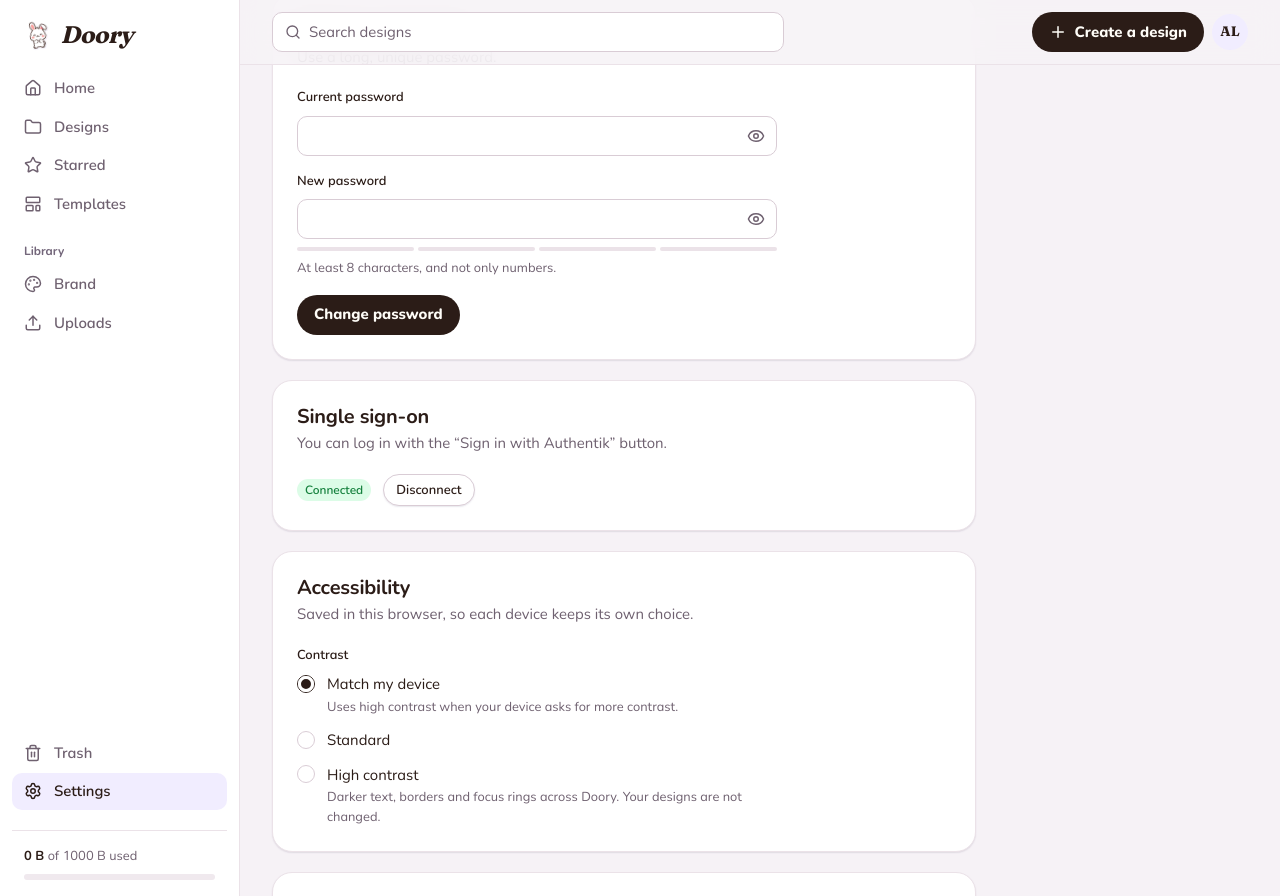
Scenario: settings: single sign-on › disconnects a connected account
(page scrolled)
Expected: the element "Single sign-on" shows "Connected", left=305, top=482, right=363, bottom=498
Expected: the element "Single sign-on" shows "You can log in with the “Sign in with Authentik” button.", left=297, top=433, right=667, bottom=453
Click the button "Disconnect": (429, 490) left=383, top=474, right=474, bottom=506
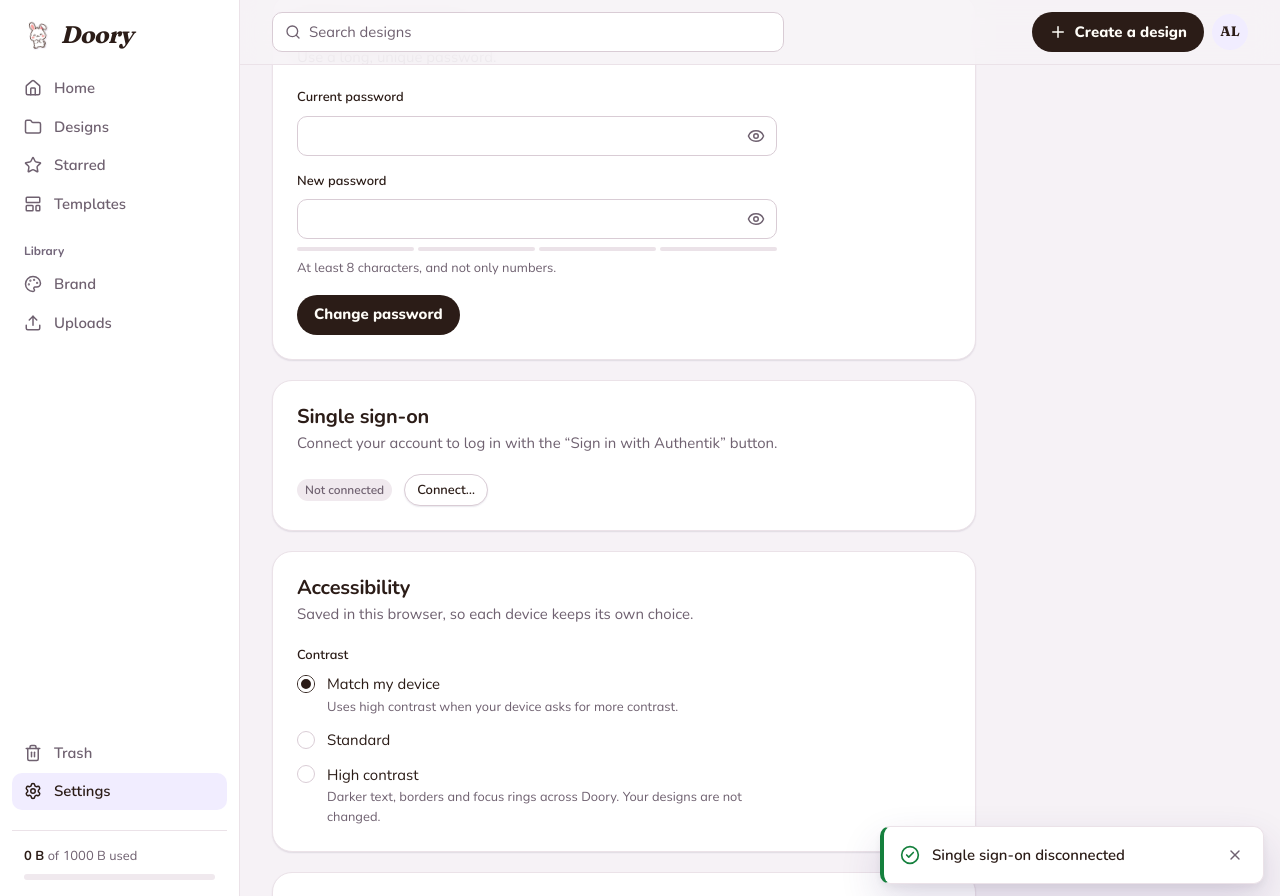
Expected: the text "Single sign-on disconnected" is shown, left=932, top=845, right=1125, bottom=865
Expected: the element "Single sign-on" shows "Not connected", left=305, top=482, right=384, bottom=498
